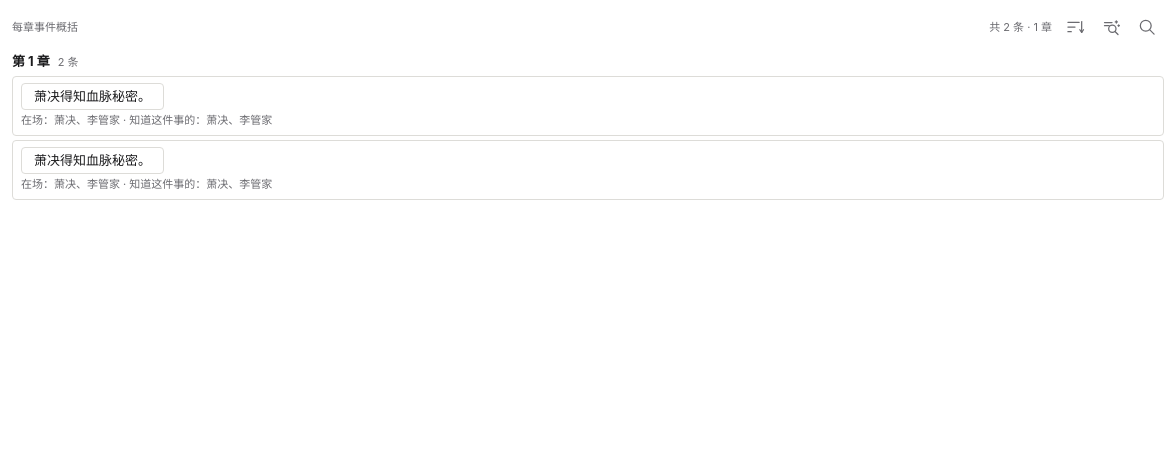
已确认的情节：谁在场、谁知道了 › 「别处刚改过」要作者再看一眼，**不静默重试**
Click the 1st button "萧决得知血脉秘密。" at (92, 96), box [21,82,164,110]
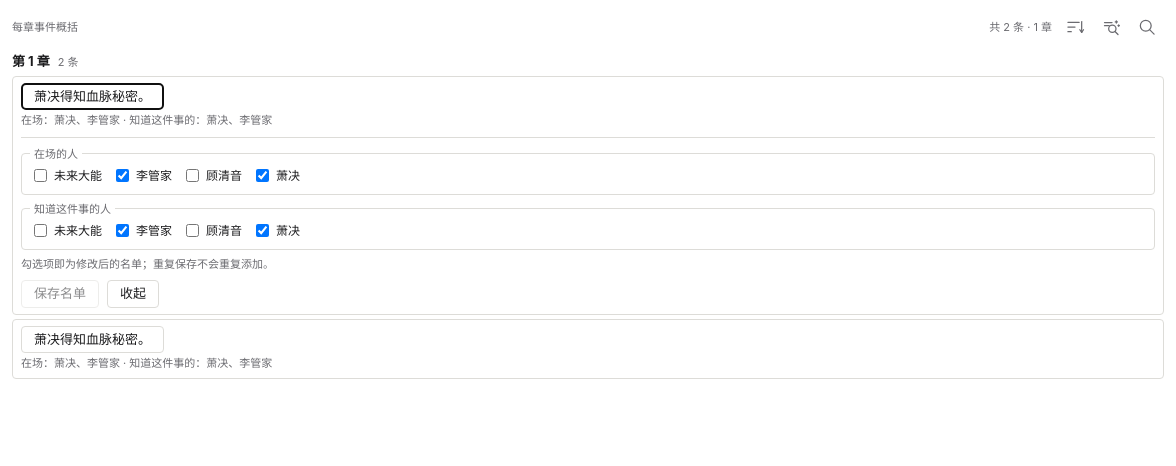
Click the checkbox labelled "李管家" below "知道这件事的人" at (122, 230), box [116,224,129,237]
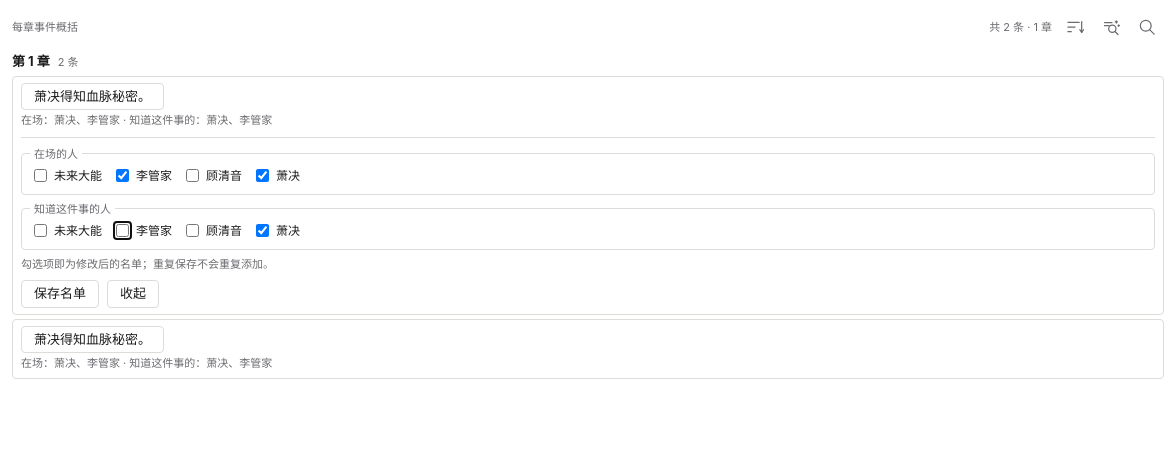
Click the button "保存名单" at (60, 294), box [21,280,99,308]
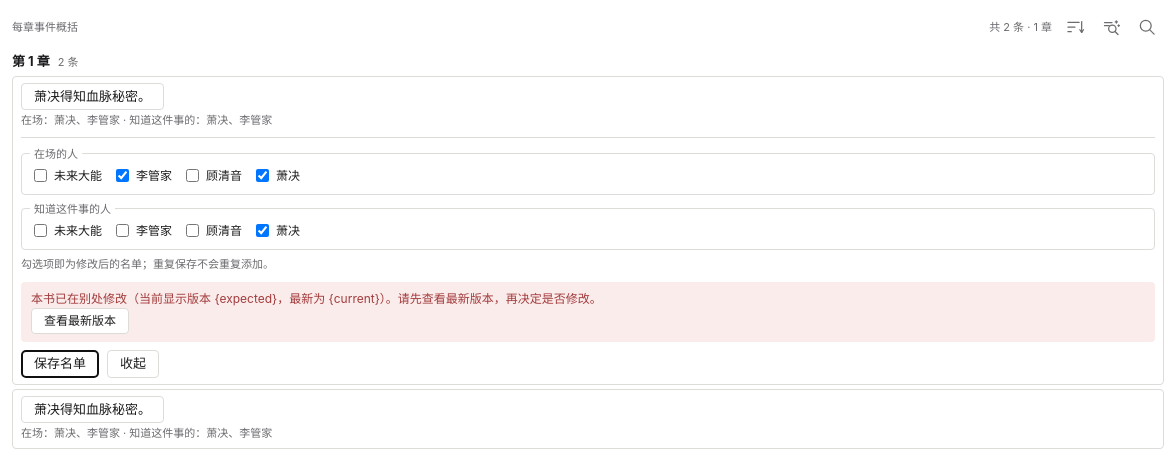
Expected: the text "本书已在别处修改（当前显示版本 {expected}，最新为 {current}）。请先查看最新版本，再决定是否修改。" is shown, [31,291,602,306]
Expected: the button "查看最新版本" is shown, [31,308,129,334]
